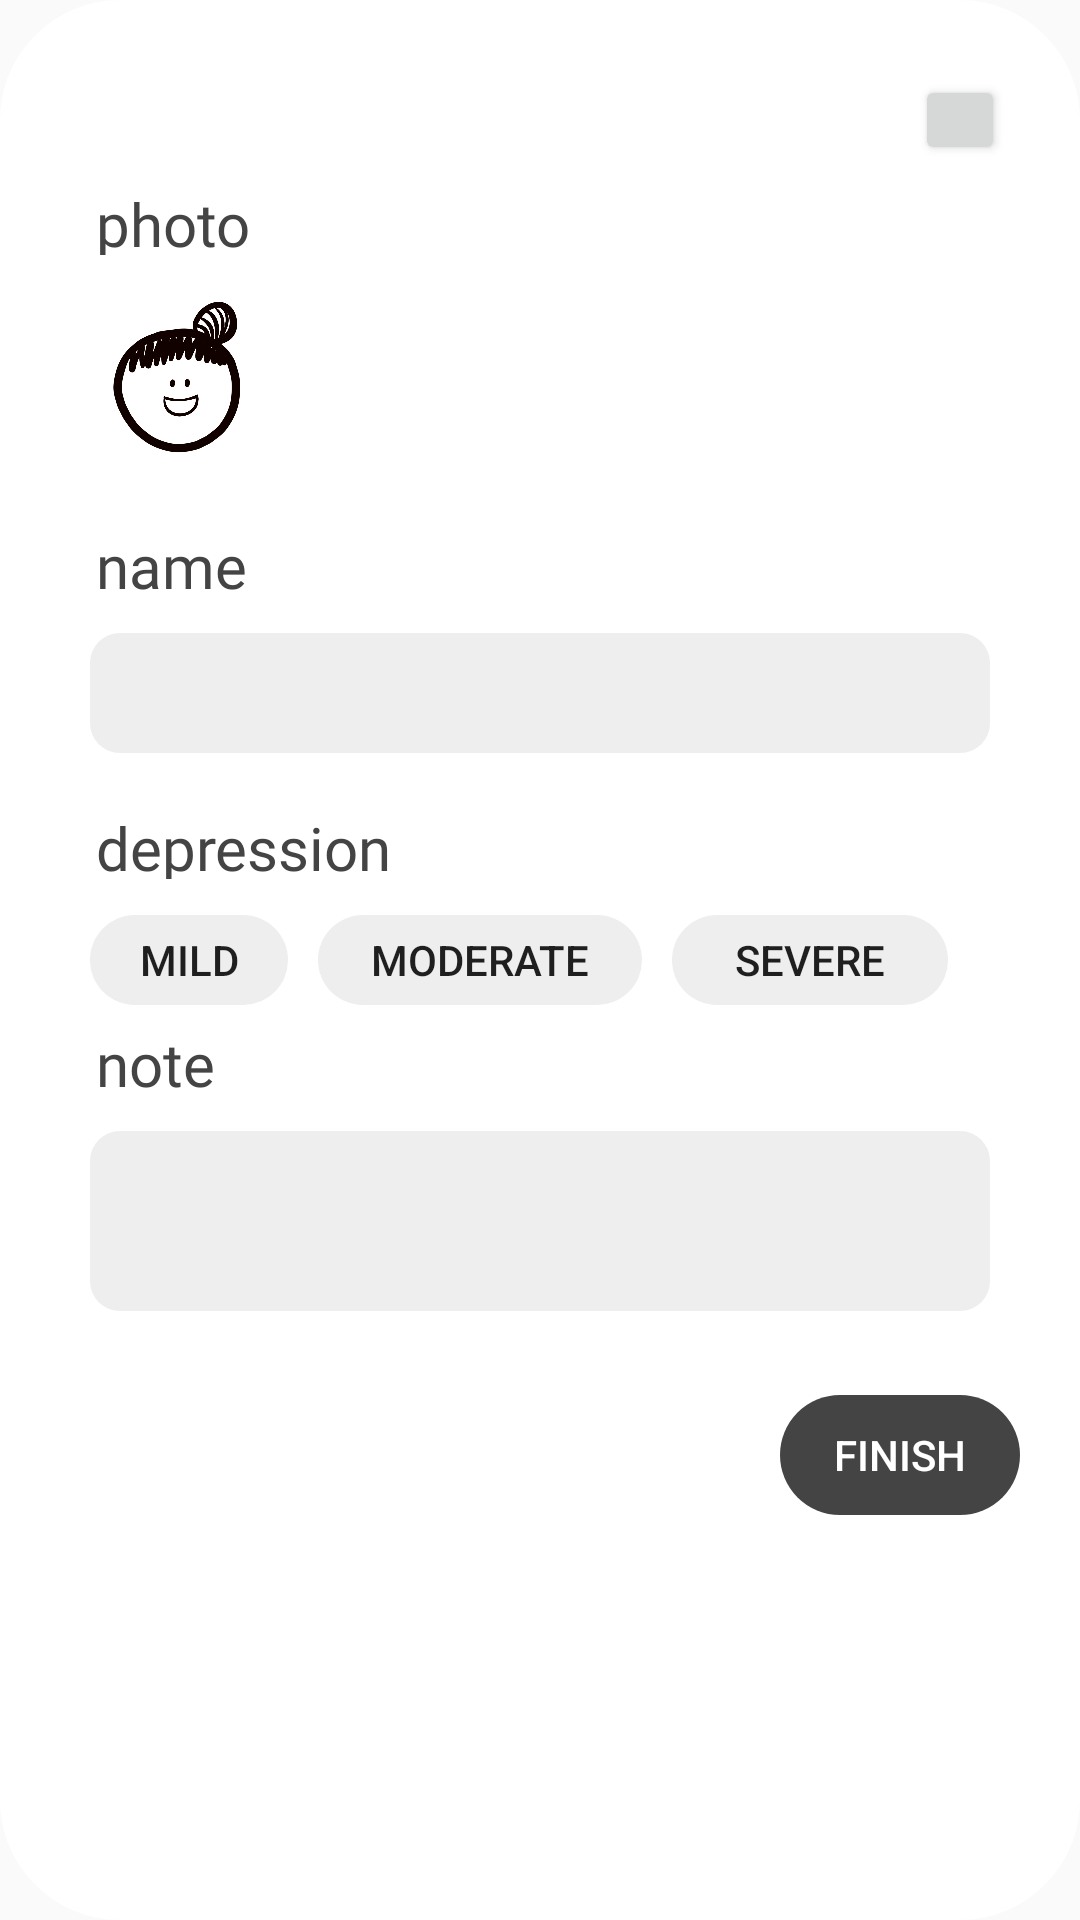

Point at icon controls on the screen. Image size 1080*1920, points as (x,y).
happy: (176,377)
